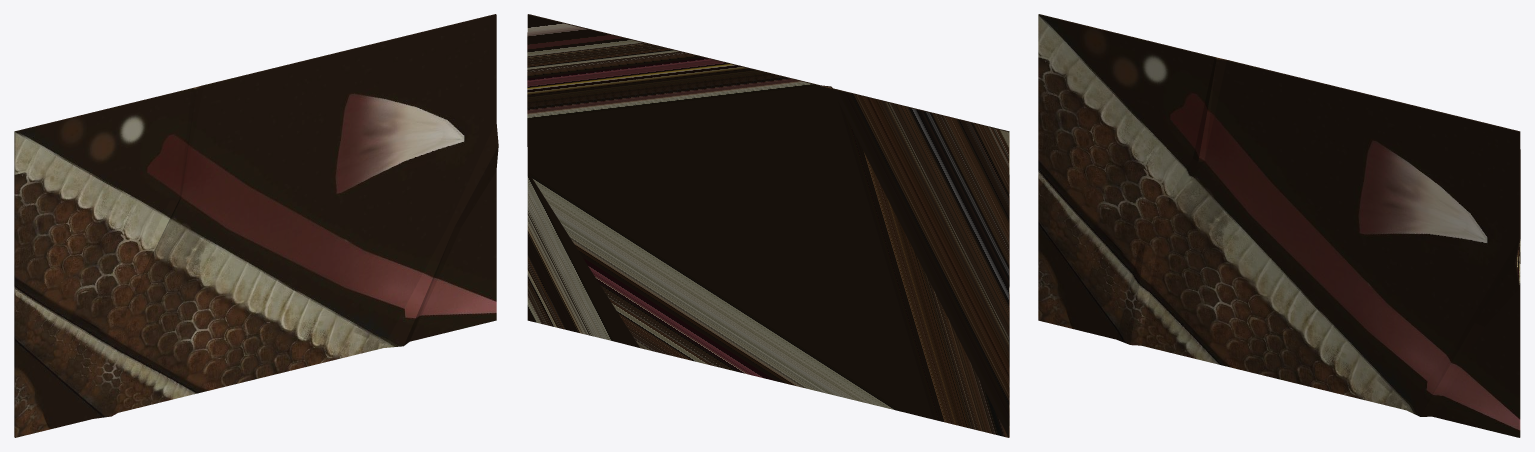
Rendered from tapis.obj.
3 renders of one model, left to right at view 1: azimuth 30°, elevation 25°; view 2: azimuth 150°, elevation 25°; view 3: azimuth 330°, elevation 25°, orthographic.
Parts seen in each view (by area): view 1: Object.1; view 2: Object.1; view 3: Object.1.
Part boxes in pixels (x1,y1,x2,y2): Object.1: (14,14,498,437); Object.1: (527,14,1009,437); Object.1: (1038,14,1520,437).
Bounding box in the file's own units: 889208 × 540028 × 13418.
